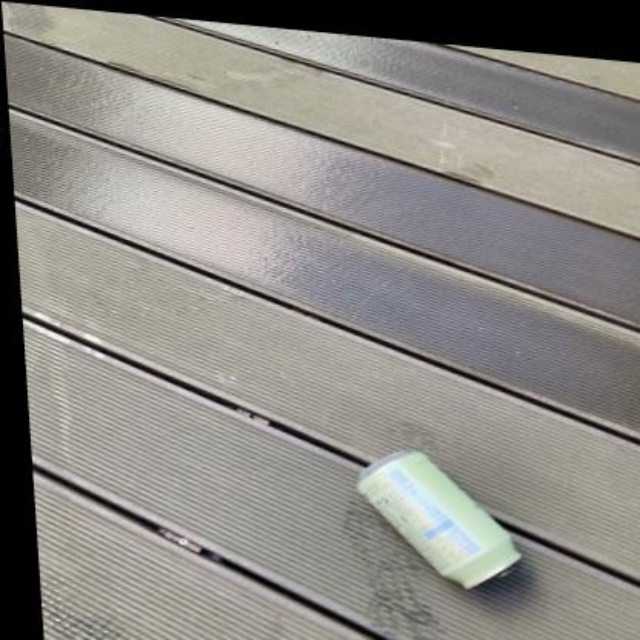trash: (357, 451, 518, 588)
